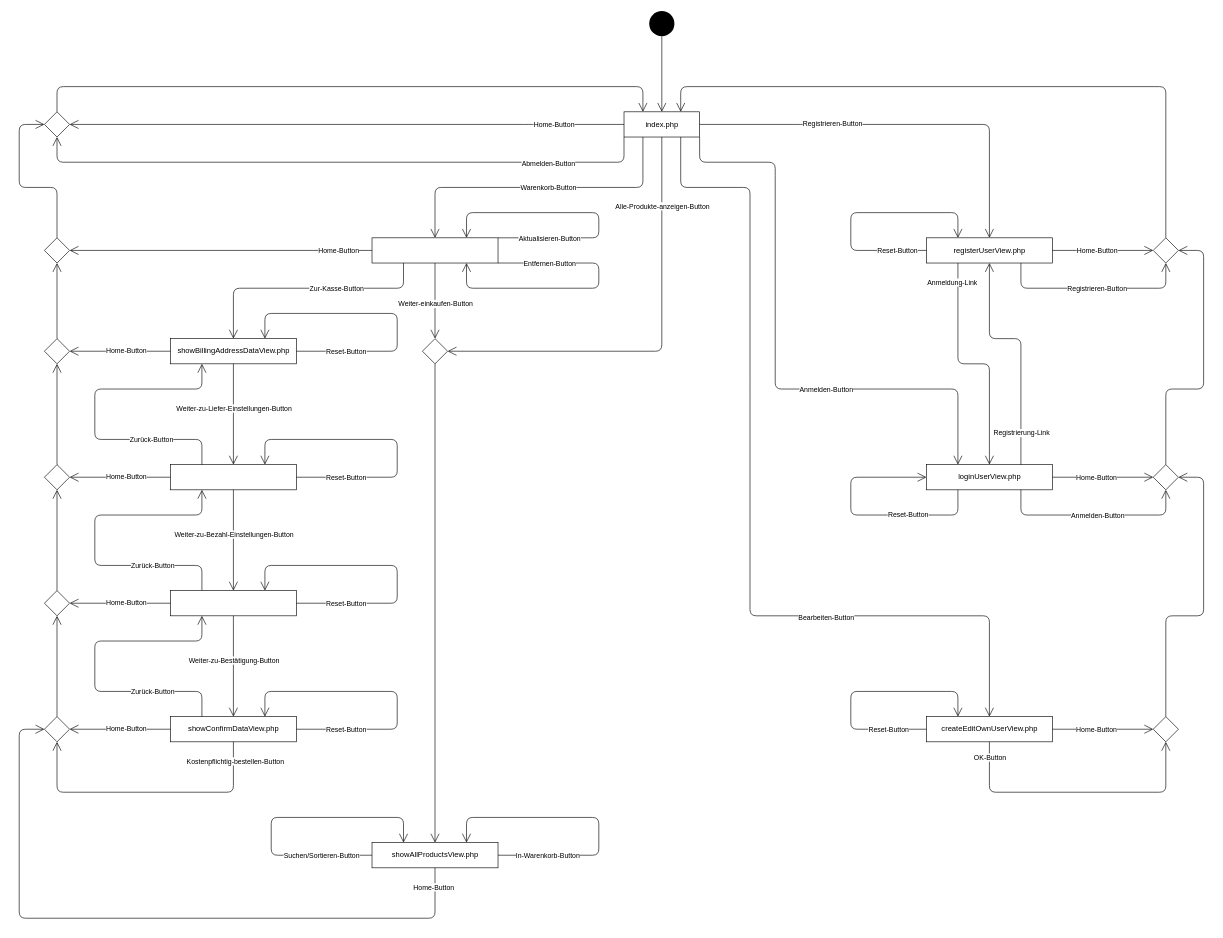
Some shapes in this 1223 by 938 pixel diagram are drawn without their labels. Here are the shapes that lost their labels. From the top down, the centre of each, then its label:
At pixel 434 250: "showAllCartEntrysView.php".
At pixel 233 477: "showDeliveryAddressDataView.php".
At pixel 233 603: "showPaymentSettingsDataView.php".
